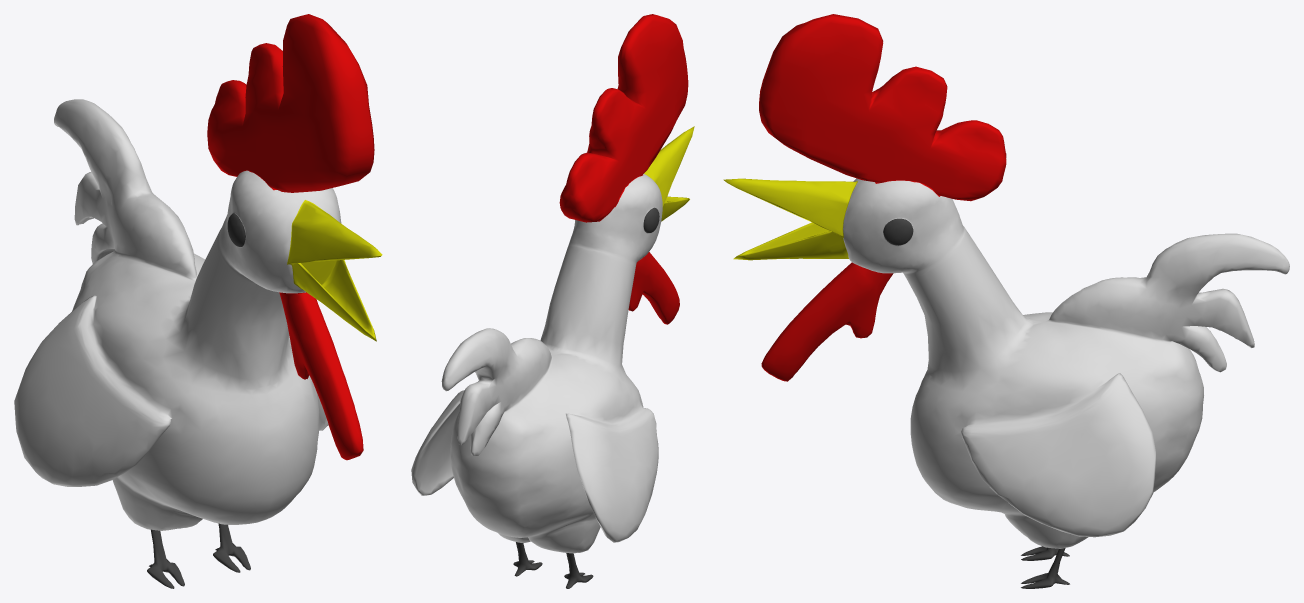
Rendered from chicken_form1.fbx.
3 views of the same model, side by side, from view 1: azimuth 30°, elevation 25°; view 2: azimuth 150°, elevation 25°; view 3: azimuth 270°, elevation 25° (orthographic). The views are drawn at different scales.
Parts seen in each view (by area): view 1: pCube5; view 2: pCube5; view 3: pCube5.
Part boxes in pixels (left/top/right/bottom): pCube5: left=14, top=14, right=382, bottom=588; pCube5: left=411, top=14, right=694, bottom=588; pCube5: left=723, top=14, right=1289, bottom=588.
Bounding box in the file's own units: 30.35 × 70.7 × 65.24.
